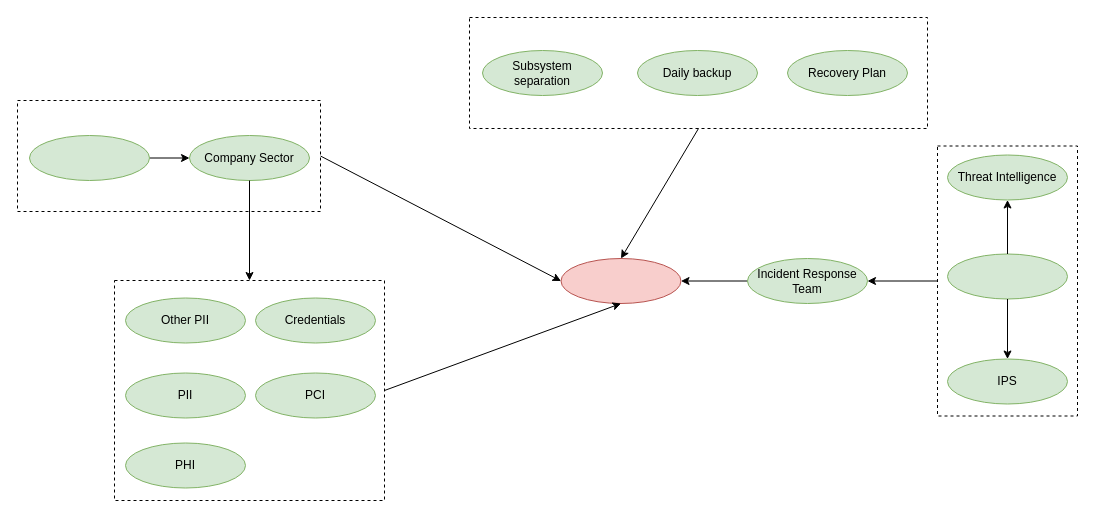
This 1095x518 diagram has some shape labels left out. Here are the shapes that lost their labels. From the top down, the centre of each, then its label:
[89,157]: Company Size
[620,281]: Cost
[1007,276]: IDS
